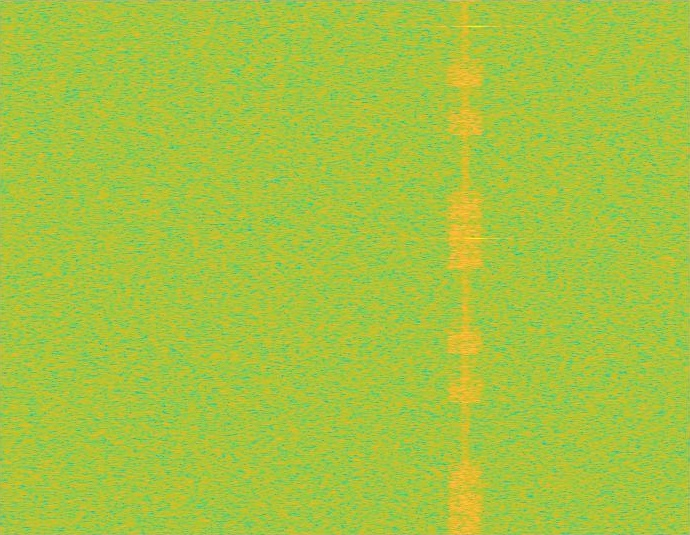DSSS: (461, 0, 469, 534)
LTE: (448, 0, 483, 534)
Radar: (469, 0, 483, 534)
